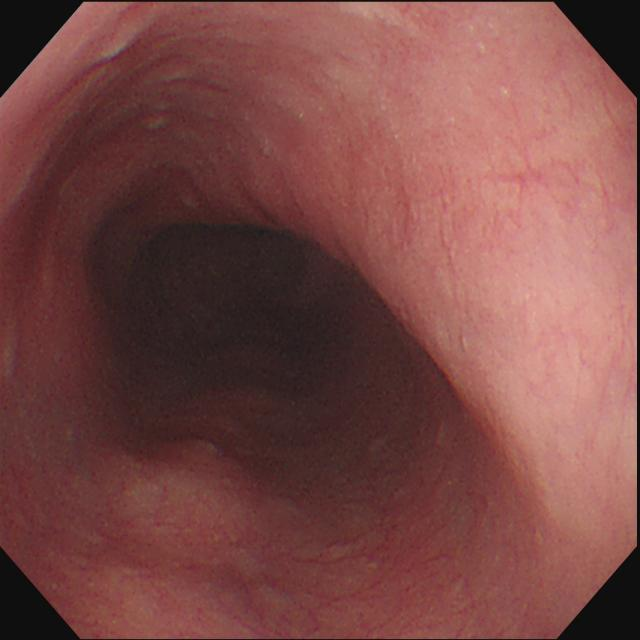A: (114, 408, 299, 562)
E: (113, 190, 321, 371)
